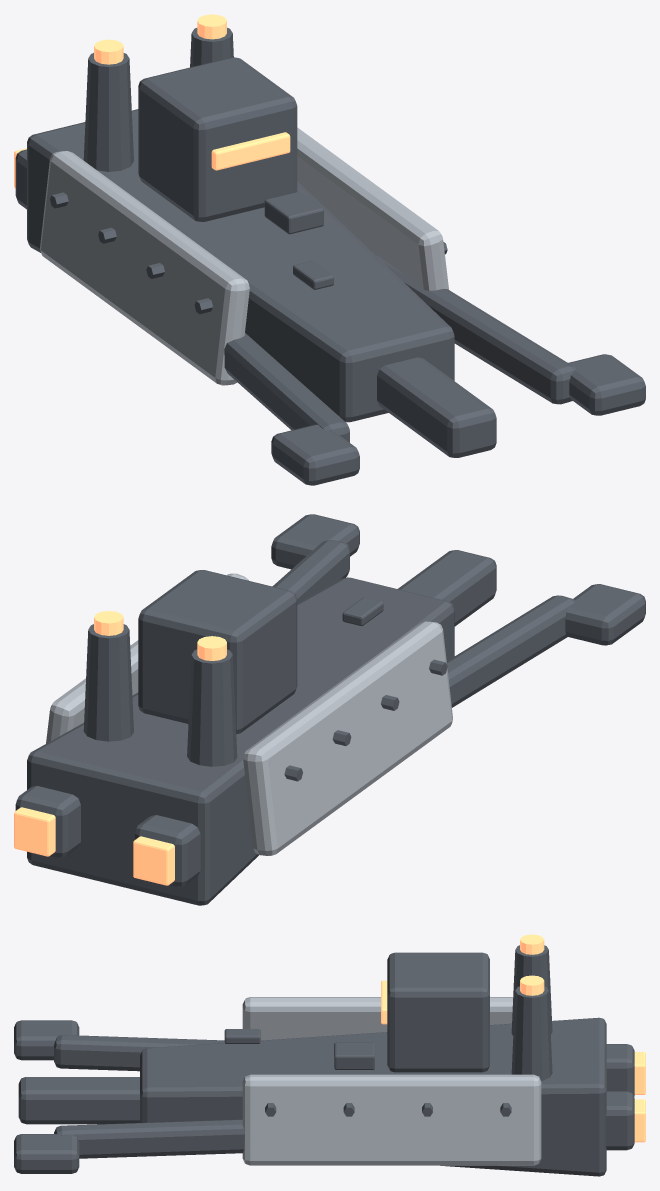
Rendered from aut_destroyer.glb.
The picture shows the model from 3 angles, top to bottom: view 1: azimuth 30°, elevation 25°; view 2: azimuth 150°, elevation 25°; view 3: azimuth 270°, elevation 25°; orthographic projection. The views are drawn at different scales.
Visible parts, largest first — view 1: slab, plate_1, turret, plate_-1, prow, claw_-1, claw_1, stack_1, claw_tip_1, claw_tip_-1, grb_0_0, eye (+4 smaller); view 2: slab, plate_1, turret, claw_1, stack_1, stack_0, prow, claw_tip_1, claw_tip_-1, claw_-1, vent_0, vent_1 (+6 smaller); view 3: plate_-1, slab, turret, plate_1, claw_-1, prow, claw_1, stack_0, claw_tip_-1, claw_tip_1, vent_0, vent_1 (+7 smaller).
Part boxes in pixels (<box>): slab: <box>27,109,454,422</box>; plate_1: <box>40,151,249,385</box>; turret: <box>138,57,297,221</box>; plate_-1: <box>297,127,448,290</box>; prow: <box>377,357,496,457</box>; claw_-1: <box>375,255,575,404</box>; claw_1: <box>224,333,349,442</box>; stack_1: <box>83,53,133,171</box>; claw_tip_1: <box>271,424,359,485</box>; claw_tip_-1: <box>568,354,645,415</box>; grb_0_0: <box>264,191,323,234</box>; eye: <box>211,132,290,170</box>; slab: <box>27,577,454,905</box>; plate_1: <box>243,621,452,855</box>; turret: <box>138,570,297,734</box>; claw_1: <box>446,595,575,707</box>; stack_1: <box>187,649,237,766</box>; stack_0: <box>83,624,133,741</box>; prow: <box>398,550,496,626</box>; claw_tip_1: <box>565,584,645,645</box>; claw_tip_-1: <box>271,514,359,569</box>; claw_-1: <box>272,540,349,602</box>; vent_0: <box>15,786,80,857</box>; vent_1: <box>135,815,200,886</box>; plate_-1: <box>242,1074,541,1165</box>; slab: <box>140,1017,606,1176</box>; turret: <box>387,952,489,1072</box>; plate_1: <box>242,997,513,1040</box>; claw_-1: <box>54,1119,244,1158</box>; prow: <box>18,1077,139,1124</box>; claw_1: <box>54,1035,224,1071</box>; stack_0: <box>511,986,552,1081</box>; claw_tip_-1: <box>14,1134,79,1173</box>; claw_tip_1: <box>14,1020,79,1060</box>; vent_0: <box>606,1091,634,1150</box>; vent_1: <box>606,1044,634,1096</box>.
Bounding box in the file's own units: 0.172 × 0.1083 × 0.3385.
